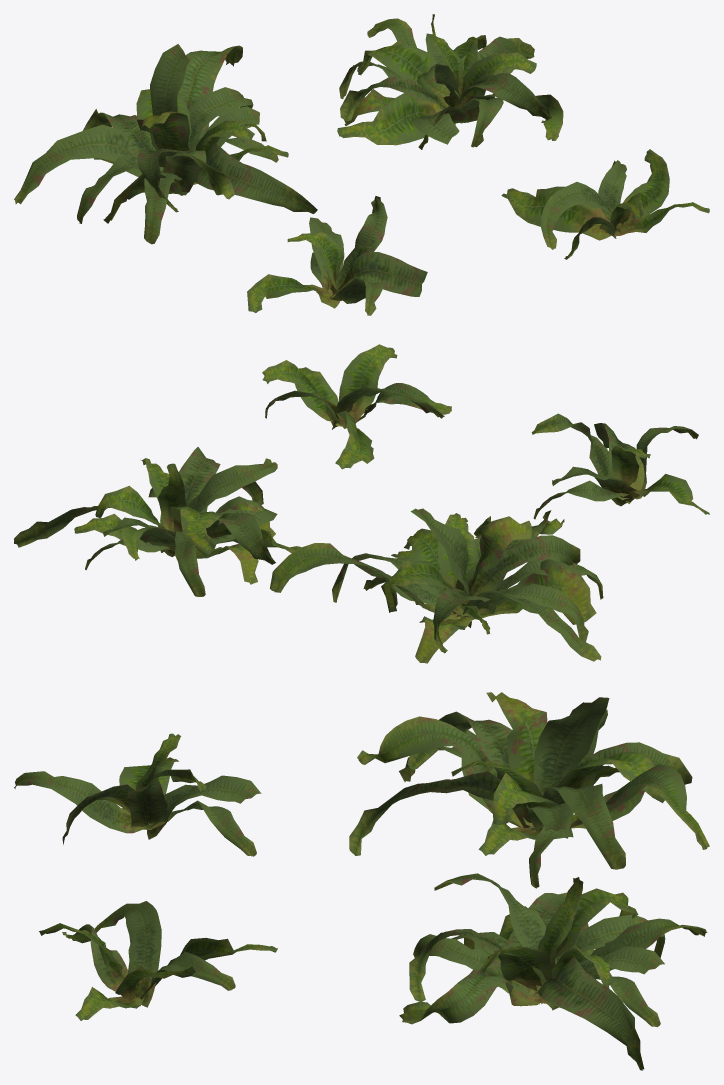
File: fern.glb
The picture shows the model from 3 angles, top to bottom: view 1: azimuth 30°, elevation 25°; view 2: azimuth 150°, elevation 25°; view 3: azimuth 270°, elevation 25°; orthographic projection. The views are drawn at different scales.
Parts seen in each view (by area): view 1: fern_02_b, fern_02_c, fern_02_d, fern_02_a; view 2: fern_02_b, fern_02_c, fern_02_d, fern_02_a; view 3: fern_02_b, fern_02_c, fern_02_a, fern_02_d.
Part boxes in pixels (left/top/right/bottom): fern_02_b: left=14, top=44, right=317, bottom=244; fern_02_c: left=337, top=14, right=563, bottom=149; fern_02_d: left=501, top=149, right=709, bottom=259; fern_02_a: left=247, top=196, right=427, bottom=315; fern_02_b: left=270, top=508, right=603, bottom=663; fern_02_c: left=14, top=447, right=301, bottom=596; fern_02_d: left=262, top=344, right=451, bottom=469; fern_02_a: left=531, top=413, right=709, bottom=519; fern_02_b: left=349, top=692, right=709, bottom=888; fern_02_c: left=399, top=873, right=707, bottom=1070; fern_02_a: left=14, top=733, right=261, bottom=856; fern_02_d: left=39, top=901, right=277, bottom=1020.
Bounding box in the file's own units: 1.97 × 0.4277 × 1.72.
1 material, 1 textured.
